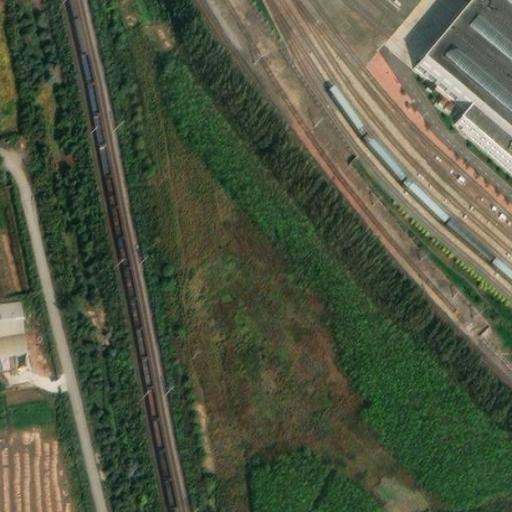building: (0, 302, 22, 335)
